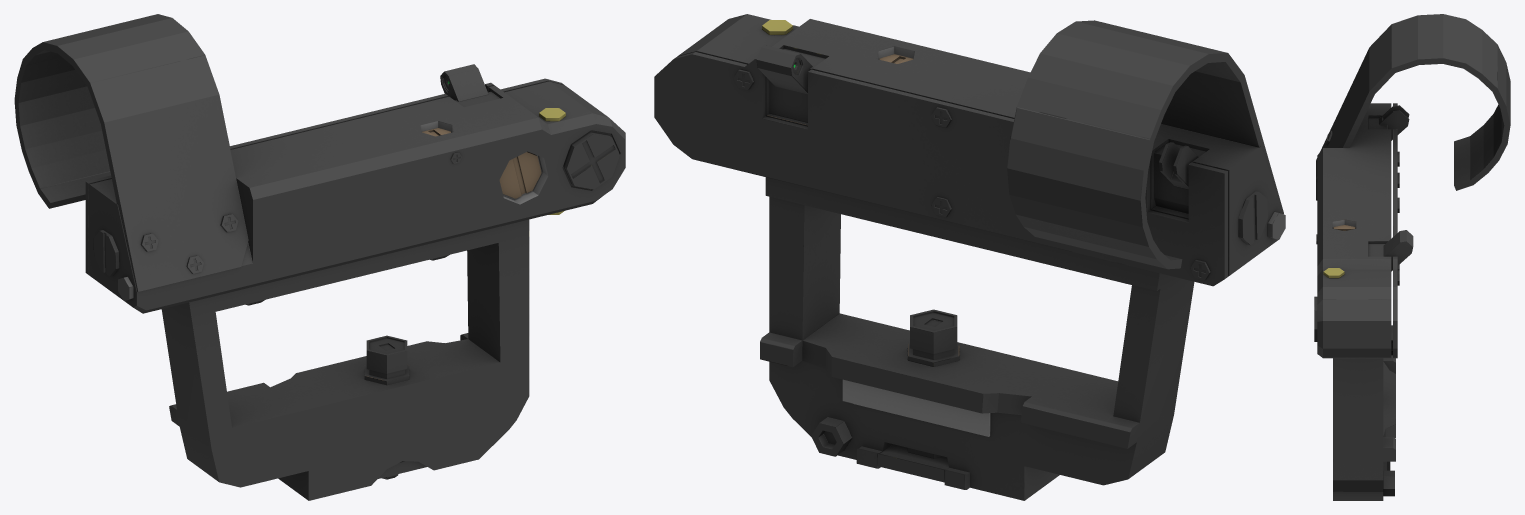
Rendered from OKP Scope.fbx.
3 views of the same model, side by side, from view 1: azimuth 30°, elevation 25°; view 2: azimuth 150°, elevation 25°; view 3: azimuth 270°, elevation 25° (orthographic). The views are drawn at different scales.
Parts seen in each view (by area): view 1: OKP-7; view 2: OKP-7; view 3: OKP-7.
Part boxes in pixels (x1,y1,x2,y2): OKP-7: [14, 14, 625, 500]; OKP-7: [654, 14, 1285, 500]; OKP-7: [1314, 14, 1510, 500].
Size of the model in its own units: 187 by 165 by 81.39.
